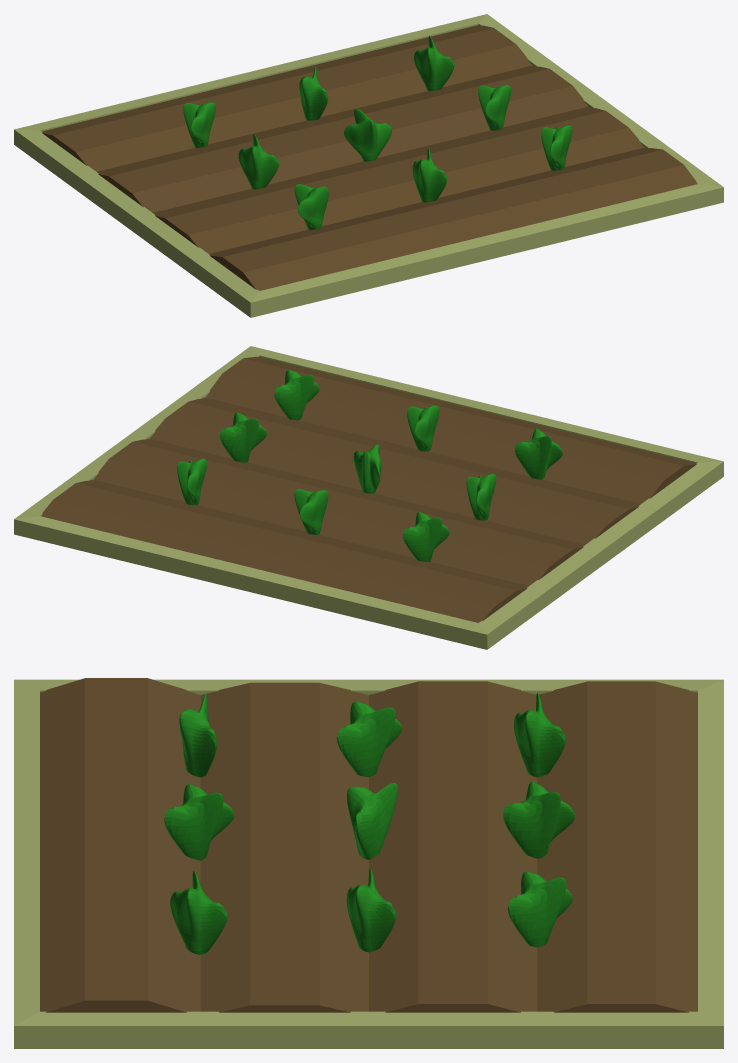
The model's file is ростки.fbx.
The picture shows the model from 3 angles, top to bottom: view 1: azimuth 30°, elevation 25°; view 2: azimuth 150°, elevation 25°; view 3: azimuth 270°, elevation 25°; orthographic projection. The views are drawn at different scales.
Visible parts, largest first — view 1: Cube, Cube.001, Sphere, Sphere.008, Sphere.005, Sphere.004, Sphere.003, Sphere.001, Sphere.006, Sphere.002, Sphere.007; view 2: Cube, Cube.001, Sphere.004, Sphere.001, Sphere.006, Sphere.002, Sphere.007, Sphere.003, Sphere.005, Sphere.008, Sphere; view 3: Cube, Cube.001, Sphere.007, Sphere.003, Sphere.005, Sphere.008, Sphere.002, Sphere, Sphere.006, Sphere.001, Sphere.004.
Boxes of the visible parts, x1,y1,x2,y2 form: Cube: [42, 25, 696, 290]; Cube.001: [14, 14, 723, 317]; Sphere: [344, 108, 391, 161]; Sphere.008: [414, 36, 454, 91]; Sphere.005: [238, 134, 279, 189]; Sphere.004: [294, 184, 328, 229]; Sphere.003: [412, 148, 447, 202]; Sphere.001: [478, 85, 511, 130]; Sphere.006: [183, 102, 215, 147]; Sphere.002: [541, 125, 572, 170]; Sphere.007: [299, 66, 328, 120]; Cube: [41, 356, 696, 622]; Cube.001: [14, 346, 723, 649]; Sphere.004: [515, 428, 562, 479]; Sphere.001: [219, 412, 266, 462]; Sphere.006: [403, 512, 449, 561]; Sphere.002: [274, 369, 319, 420]; Sphere.007: [294, 489, 328, 534]; Sphere.003: [407, 405, 439, 451]; Sphere.005: [466, 473, 496, 520]; Sphere.008: [177, 458, 206, 505]; Sphere: [353, 444, 381, 493]; Cube: [40, 678, 697, 1012]; Cube.001: [14, 679, 723, 1048]; Sphere.007: [503, 781, 574, 858]; Sphere.003: [164, 784, 234, 860]; Sphere.005: [337, 701, 401, 777]; Sphere.008: [508, 871, 572, 947]; Sphere.002: [170, 871, 227, 954]; Sphere: [347, 783, 397, 859]; Sphere.006: [514, 693, 565, 777]; Sphere.001: [346, 868, 396, 952]; Sphere.004: [179, 693, 217, 777].
Size of the model in its own units: 650 by 78.56 by 563.
